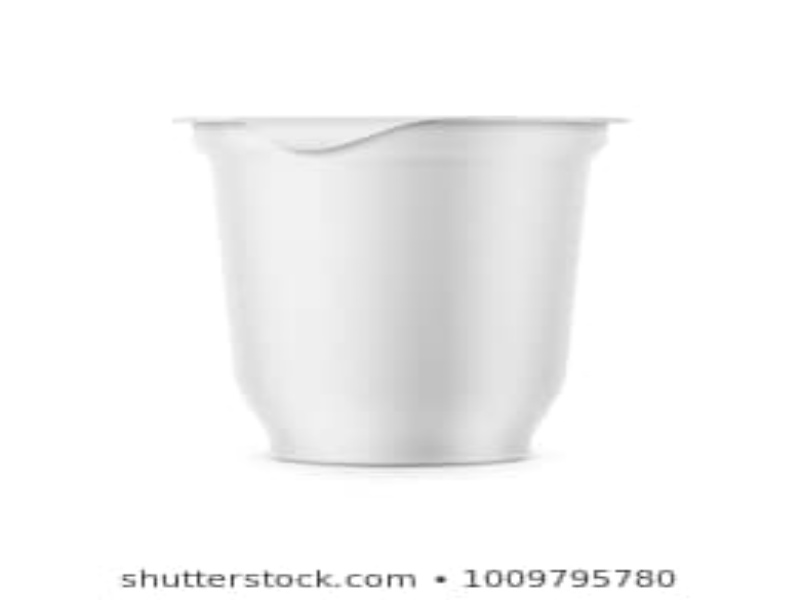yogurt-cup: (168, 104, 646, 474)
